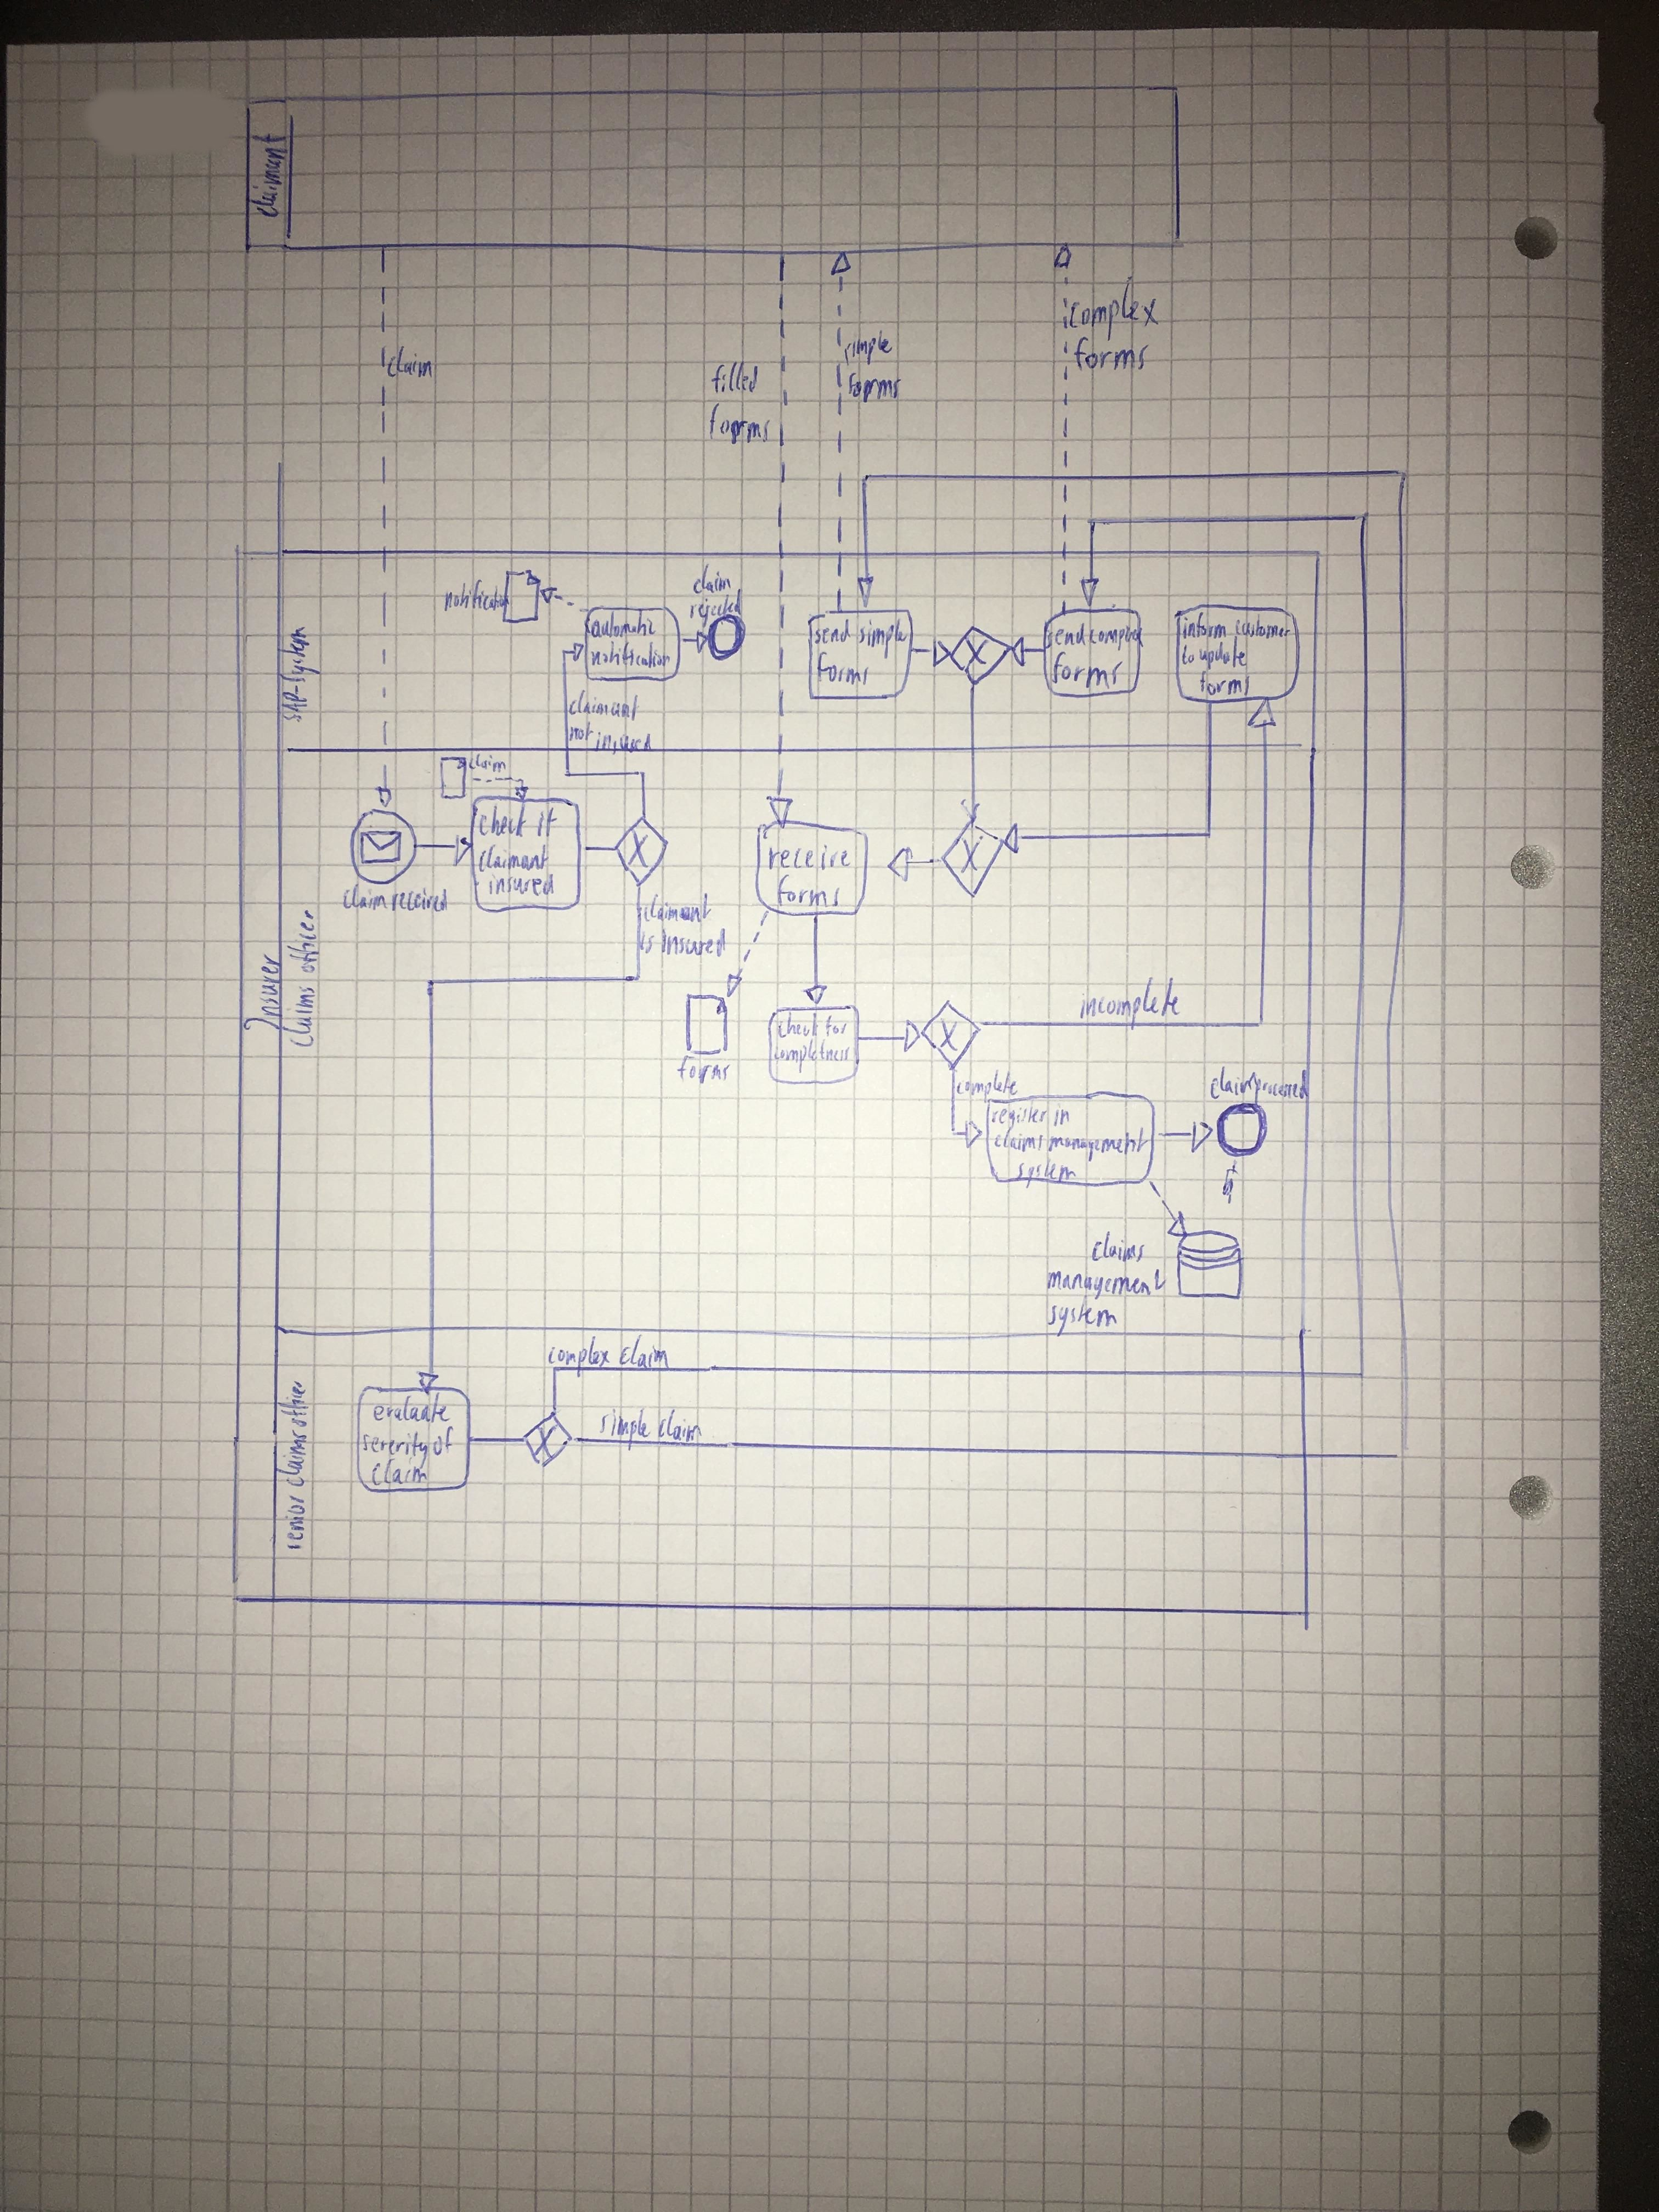Insurer: (239, 951, 286, 1040)
SAP-System: (279, 627, 314, 723)
automatic: (577, 608, 671, 641)
check: (477, 803, 526, 840), (774, 1012, 817, 1043)
claim: (383, 340, 439, 383), (613, 1336, 671, 1369), (369, 1460, 430, 1489), (687, 566, 737, 601), (650, 1411, 706, 1440), (335, 887, 382, 913), (469, 752, 511, 775)
claimant: (249, 127, 289, 223), (634, 895, 713, 928), (477, 840, 551, 873), (566, 691, 638, 723)
claimprocessed: (1204, 1069, 1307, 1104)
claims: (282, 984, 321, 1052), (1086, 1231, 1155, 1266), (988, 1125, 1046, 1158), (281, 1433, 310, 1491)
complete: (955, 1071, 1021, 1099)
completness: (774, 1040, 852, 1068)
complex: (1068, 286, 1161, 334), (544, 1338, 610, 1366), (1086, 625, 1143, 651)
customer: (1229, 618, 1291, 641)
evaluate: (368, 1397, 455, 1426)
filled: (711, 359, 763, 397)
for: (817, 1012, 852, 1042)
forms: (1051, 648, 1126, 693), (1066, 334, 1150, 374), (772, 876, 849, 913), (708, 408, 774, 448), (812, 655, 880, 691), (838, 369, 903, 404), (1195, 672, 1249, 698), (676, 1062, 730, 1085)
in: (1046, 1103, 1079, 1130)
incomplete: (1073, 975, 1185, 1024)
inform: (1180, 615, 1225, 637)
insured: (586, 721, 657, 759), (659, 927, 730, 958), (484, 873, 561, 899)
is: (638, 927, 653, 958)
it: (525, 805, 559, 841)
management: (1046, 1268, 1162, 1299), (1051, 1129, 1148, 1160)
not: (566, 719, 591, 751)
notification: (434, 573, 512, 620), (587, 643, 674, 672)
of: (425, 1425, 460, 1460)
officer: (288, 911, 321, 979), (282, 1379, 310, 1430)
receive: (762, 841, 850, 881)
received: (383, 888, 453, 914)
register: (983, 1103, 1047, 1127)
rejected: (688, 592, 746, 625)
send: (1046, 624, 1082, 651), (814, 620, 850, 644)
senior: (281, 1494, 308, 1557)
severity: (356, 1426, 429, 1461)
simple: (845, 615, 906, 651), (838, 334, 890, 364), (596, 1411, 647, 1439)
system: (1042, 1301, 1121, 1331), (1012, 1157, 1080, 1184)
to: (1180, 643, 1194, 671)
update: (1192, 641, 1251, 669)
